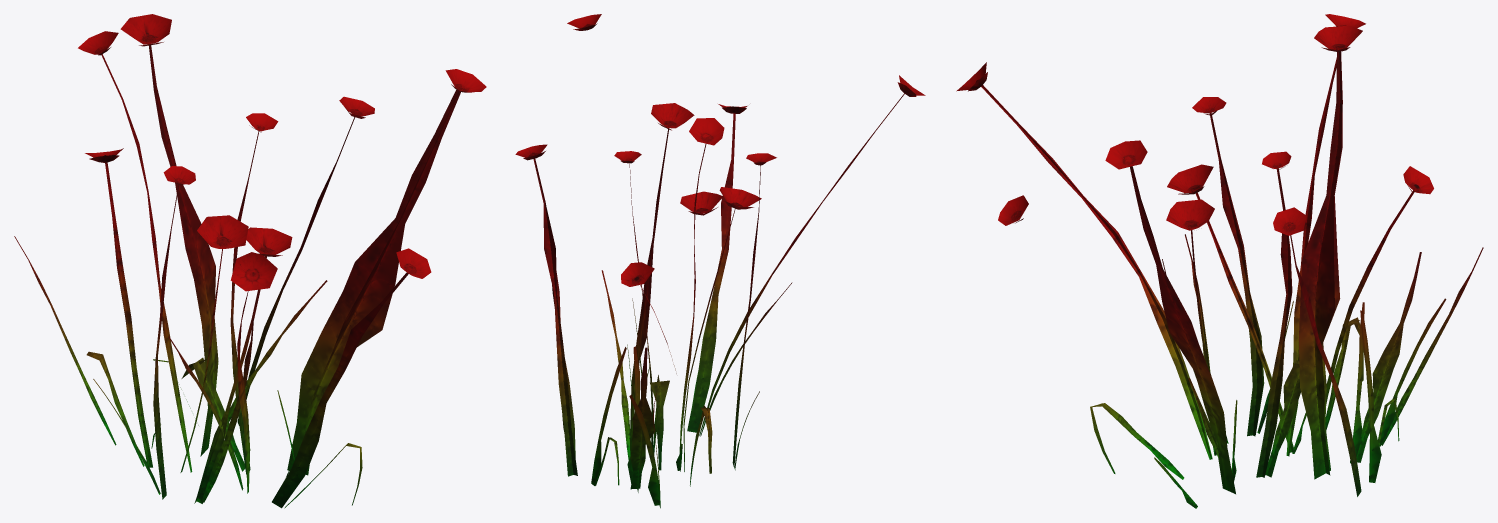
File: White Everlasting_LOD1_Var7_ucvobbbia.glb
3 renders of one model, left to right at view 1: azimuth 30°, elevation 25°; view 2: azimuth 150°, elevation 25°; view 3: azimuth 270°, elevation 25°, orthographic. The views are drawn at different scales.
Visible parts, largest first — view 1: _9243_Var7_LOD1; view 2: _9243_Var7_LOD1; view 3: _9243_Var7_LOD1.
Part boxes in pixels (x1=…): _9243_Var7_LOD1: x1=14, y1=14, x2=486, y2=508; _9243_Var7_LOD1: x1=515, y1=14, x2=925, y2=508; _9243_Var7_LOD1: x1=956, y1=14, x2=1483, y2=508.
Bounding box in the file's own units: 0.4248 × 0.5405 × 0.6121.
Materials: 1 (1 with a texture image).
